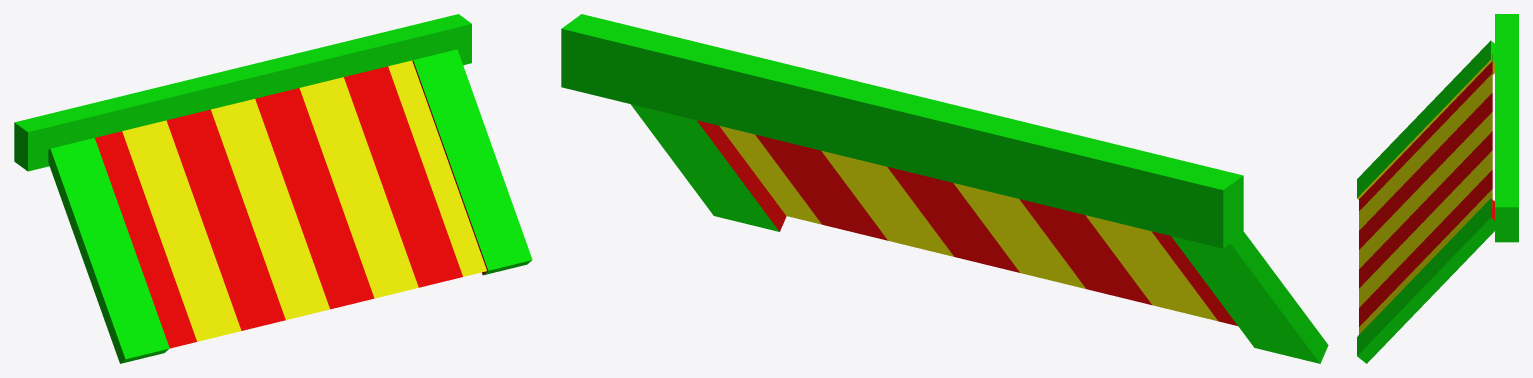
The model's file is Mini_ShopDrapSmaller.fbx.
3 views of the same model, side by side, from view 1: azimuth 30°, elevation 25°; view 2: azimuth 150°, elevation 25°; view 3: azimuth 270°, elevation 25° (orthographic). The views are drawn at different scales.
Visible parts, largest first — view 1: polySurface190; view 2: polySurface190; view 3: polySurface190.
Boxes of the visible parts, x1=… form: polySurface190: x1=14, y1=14, x2=532, y2=363; polySurface190: x1=561, y1=14, x2=1328, y2=363; polySurface190: x1=1357, y1=14, x2=1518, y2=363.
Bounding box in the file's own units: 4.95 × 1.96 × 1.75.
